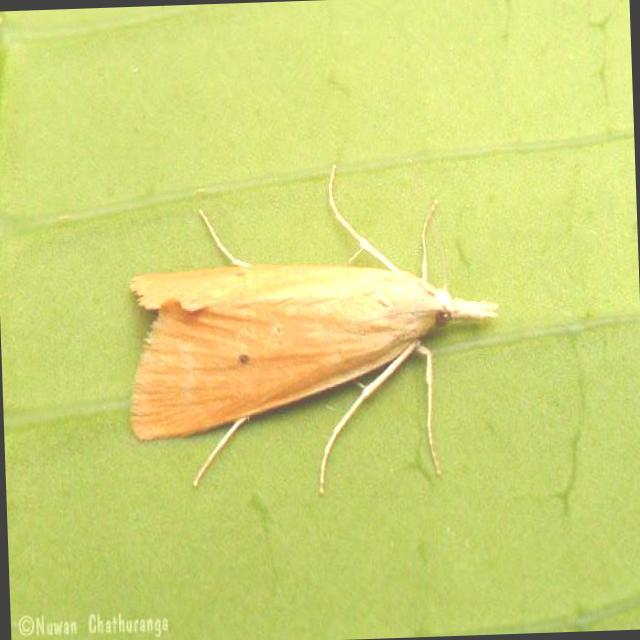stem borer: (130, 170, 497, 493)
